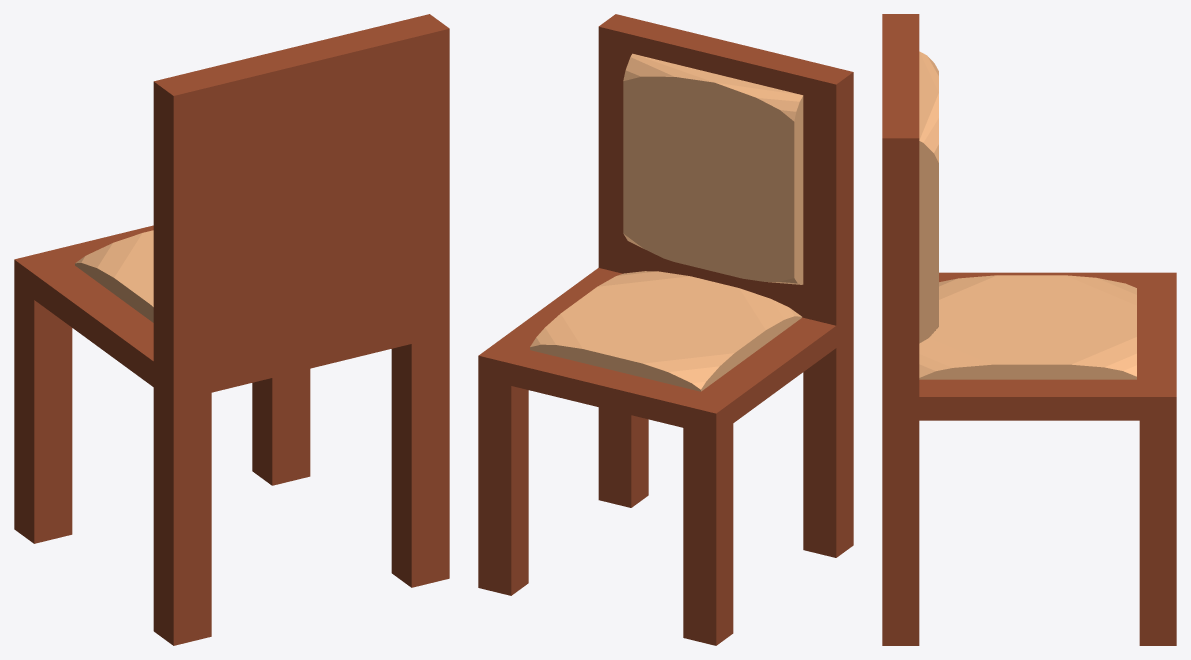
Rendered from Chair_Museum.fbx.
3 views of the same model, side by side, from view 1: azimuth 30°, elevation 25°; view 2: azimuth 150°, elevation 25°; view 3: azimuth 270°, elevation 25° (orthographic). The views are drawn at different scales.
Visible parts, largest first — view 1: Cube, Cube.001; view 2: Cube, Cube.002, Cube.001; view 3: Cube, Cube.001, Cube.002.
Boxes of the visible parts, x1,y1,x2,y2 form: Cube: (14, 14, 449, 645); Cube.001: (75, 230, 153, 322); Cube: (478, 14, 853, 645); Cube.002: (623, 53, 803, 284); Cube.001: (530, 271, 802, 391); Cube: (882, 14, 1176, 645); Cube.001: (919, 275, 1136, 379); Cube.002: (919, 51, 938, 343).
Size of the model in its own units: 41.3 by 78.6 by 41.3.
